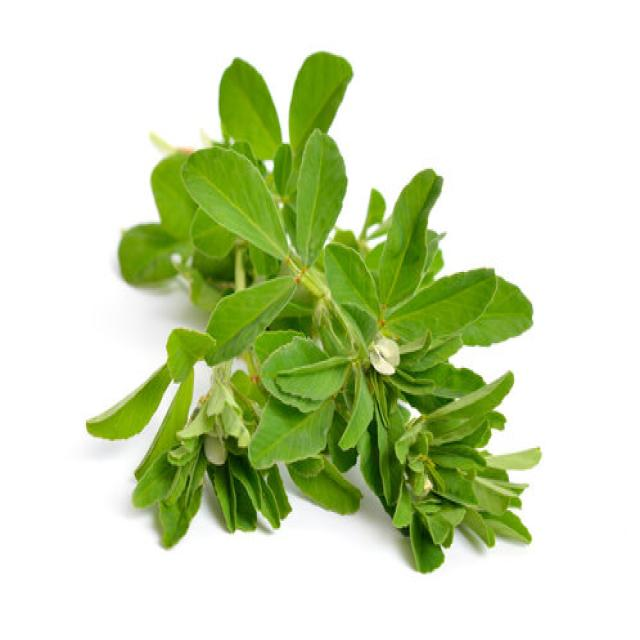Fenugreek: (85, 48, 541, 572)
